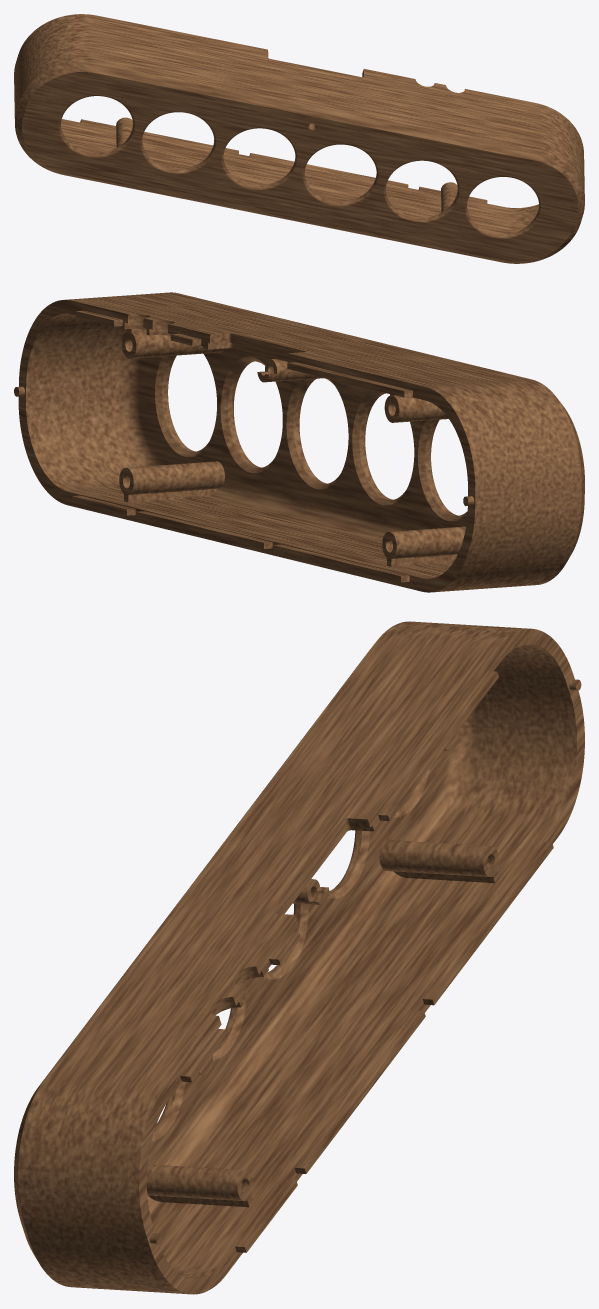
Rendered from front_shell.glb.
3 views of the same model, one above another, from view 1: azimuth 30°, elevation 25°; view 2: azimuth 150°, elevation 25°; view 3: azimuth 270°, elevation 25° (orthographic). The views are drawn at different scales.
Parts seen in each view (by area): view 1: front_shell.001; view 2: front_shell.001; view 3: front_shell.001.
Part boxes in pixels (bbox=[...]): front_shell.001: bbox=[14, 14, 584, 263]; front_shell.001: bbox=[14, 292, 584, 592]; front_shell.001: bbox=[14, 621, 584, 1294].
Size of the model in its own units: 1.88 by 0.8895 by 1.18.
Materials: 1 (1 with a texture image).
